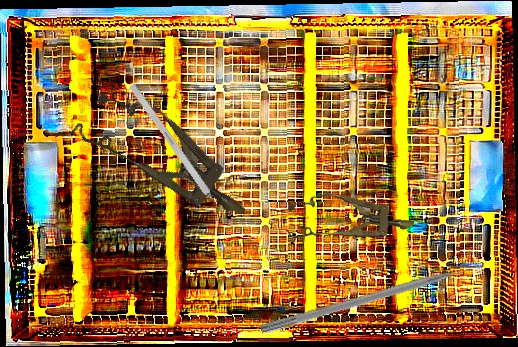Hook Surgical: (128, 82, 229, 222)
Pusher: (259, 260, 487, 337)
Speculum: (69, 75, 265, 242), (285, 190, 416, 249)
